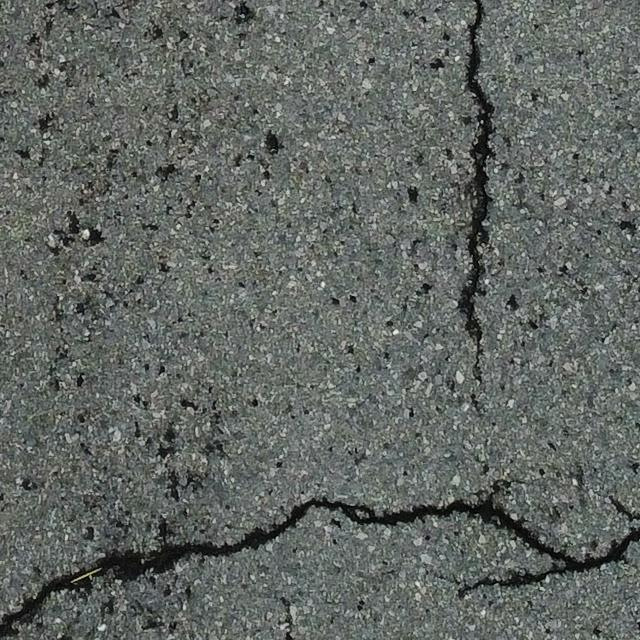LongitudinalCrack: (458, 1, 496, 381)
TransverseCrack: (1, 487, 640, 634)
